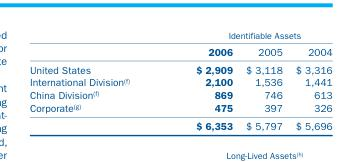table: (28, 29, 331, 131)
table column: (28, 29, 162, 131), (162, 29, 238, 131), (238, 29, 288, 131), (288, 29, 331, 131)
table column header: (28, 29, 331, 60)
table row: (28, 42, 331, 60), (28, 60, 331, 75), (28, 101, 331, 116), (28, 116, 331, 131), (28, 29, 331, 42), (28, 75, 331, 88), (28, 88, 331, 101)
table spanning cell: (162, 29, 331, 42)
